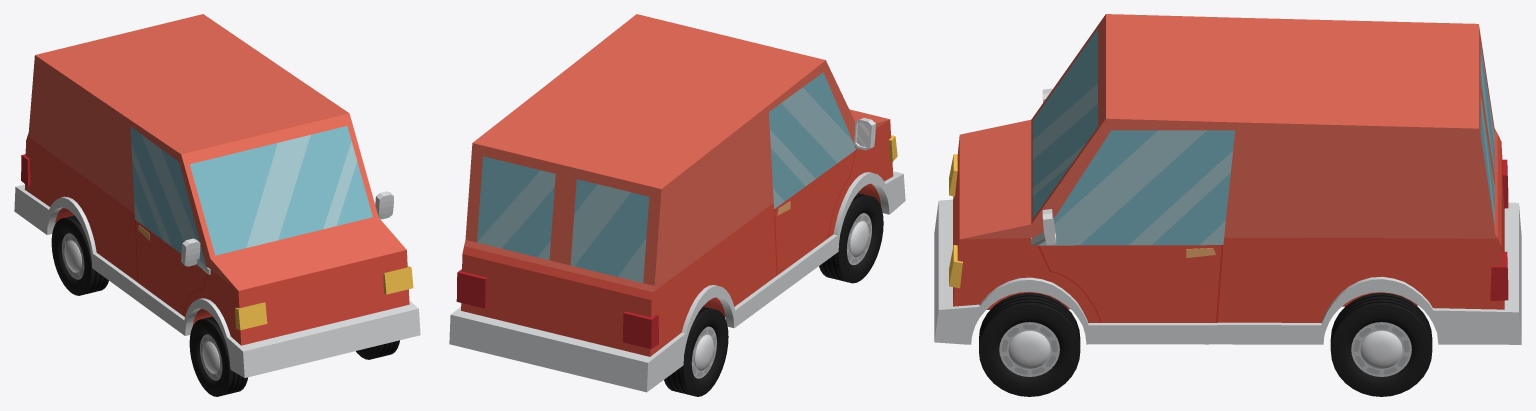
The model's file is van.fbx.
The picture shows the model from 3 angles, left to right: view 1: azimuth 30°, elevation 25°; view 2: azimuth 150°, elevation 25°; view 3: azimuth 270°, elevation 25°; orthographic projection. The views are drawn at different scales.
Visible parts, largest first — view 1: red_van, Cylinder.016, Cylinder.005, Cylinder.004; view 2: red_van, Cylinder.016, Cylinder.005; view 3: red_van, Cylinder.017, Cylinder.004.
Part boxes in pixels (bbox=[...]): red_van: bbox=[14, 14, 420, 377]; Cylinder.016: bbox=[189, 316, 247, 396]; Cylinder.005: bbox=[51, 215, 108, 295]; Cylinder.004: bbox=[356, 340, 399, 359]; red_van: bbox=[449, 14, 905, 392]; Cylinder.016: bbox=[819, 193, 883, 283]; Cylinder.005: bbox=[664, 306, 728, 396]; red_van: bbox=[934, 14, 1521, 344]; Cylinder.017: bbox=[1330, 292, 1432, 396]; Cylinder.004: bbox=[979, 292, 1080, 396].
Bounding box in the file's own units: 261 × 501 × 261.
